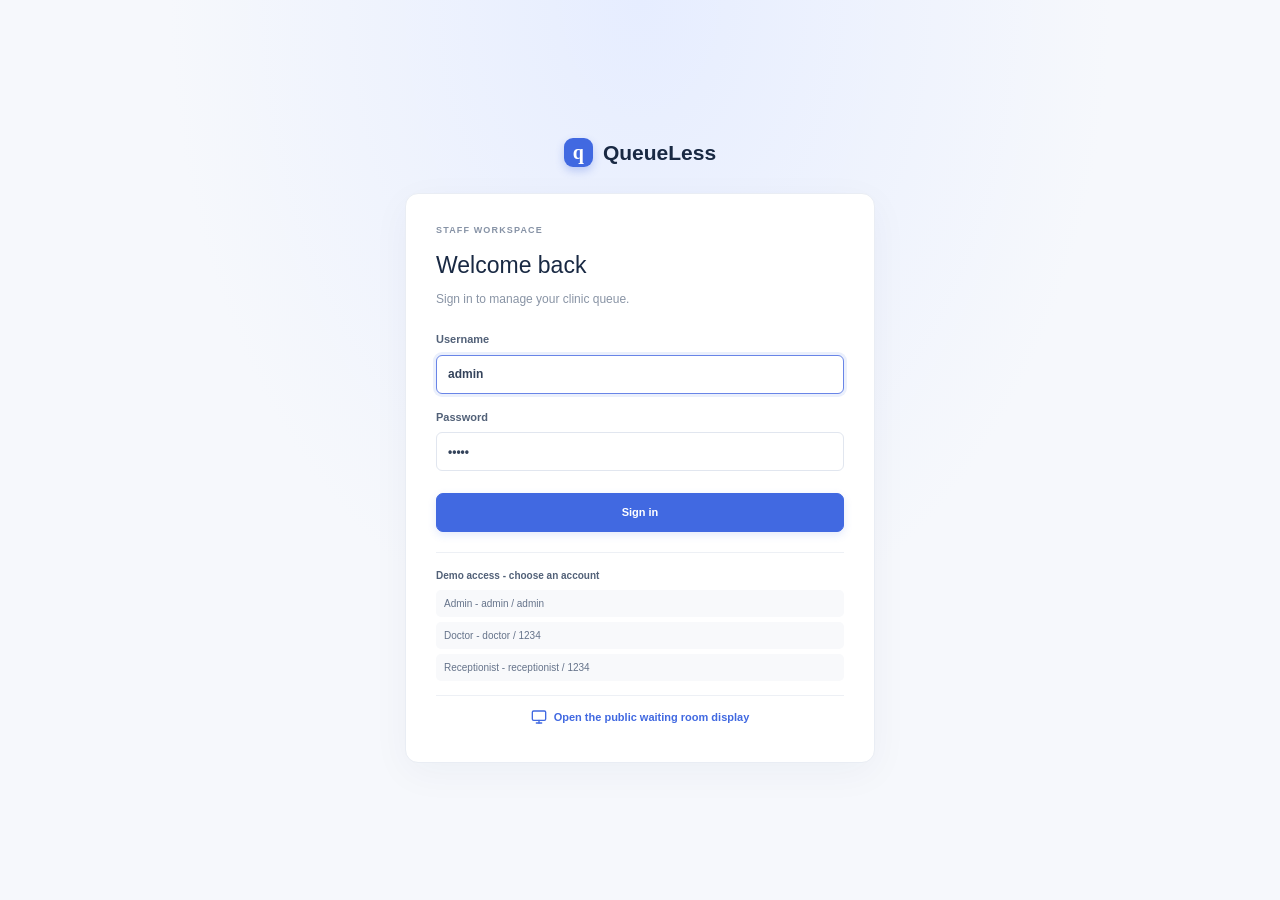
Scenario: QueueLess views › fills and signs in the receptionist demo account
Click the button "Receptionist - receptionist / 1234": x=517, y=667 [436, 654, 844, 681]
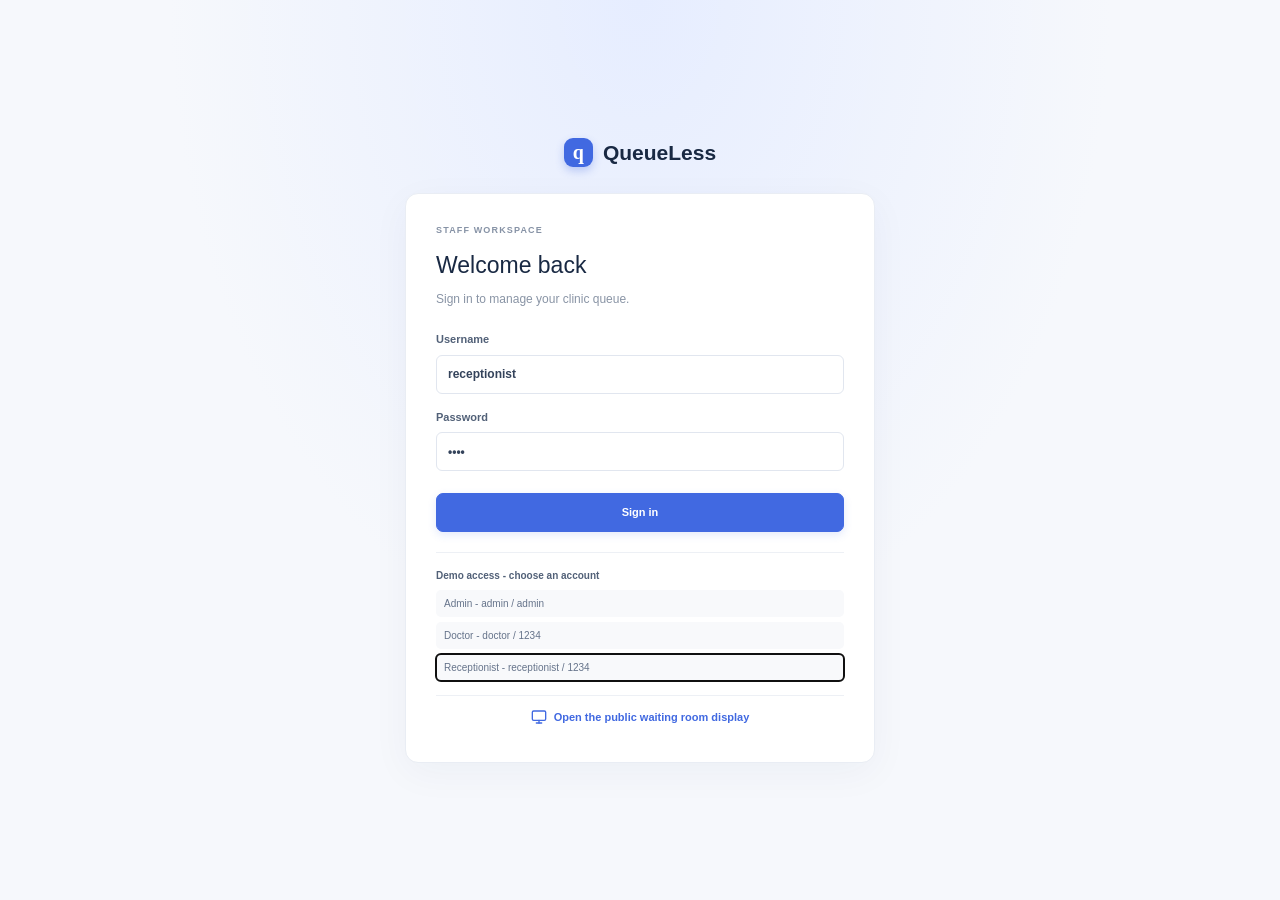
Click the button "Sign in": x=640, y=513 [436, 493, 844, 532]
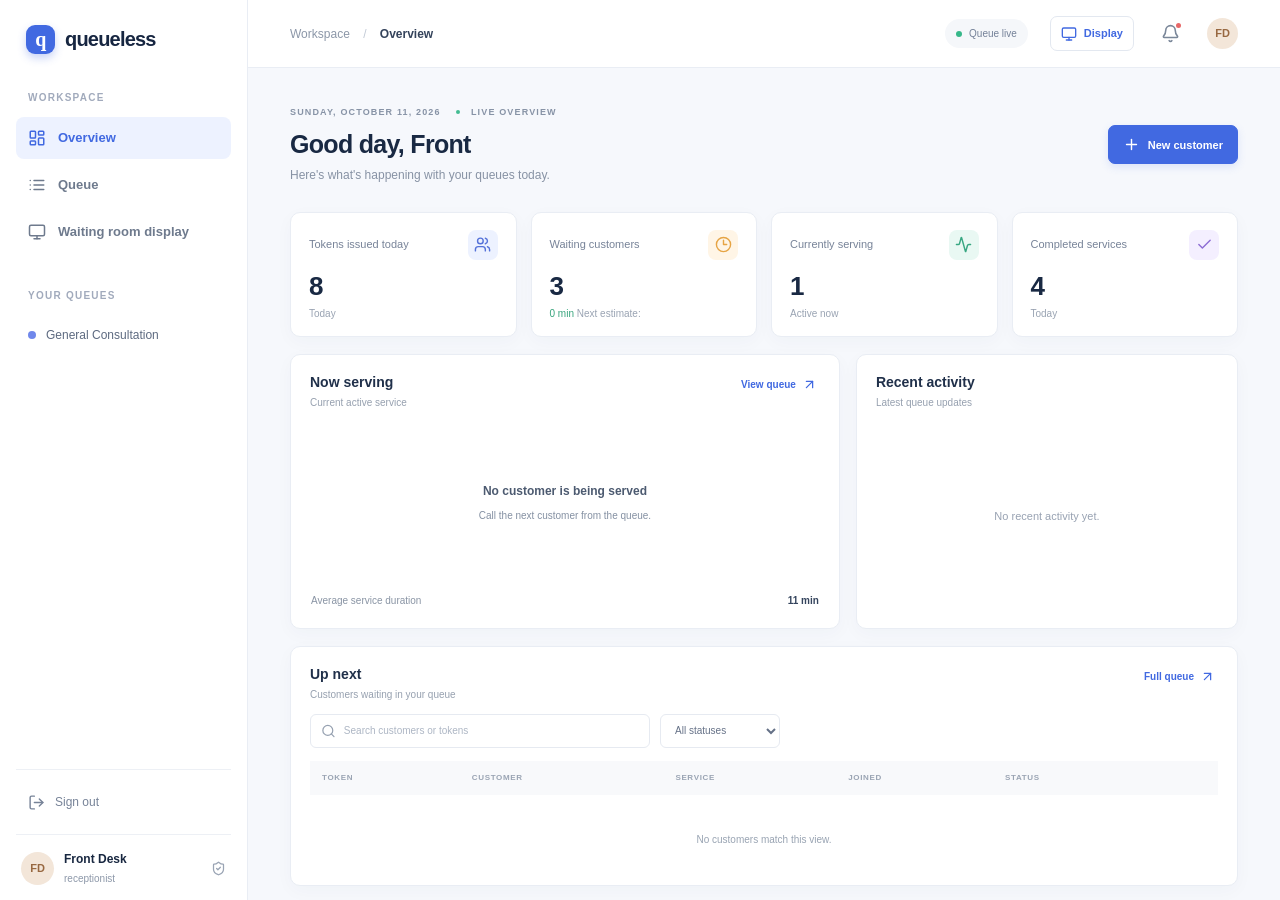
Check: the heading "Good day, Front" is shown, box [290, 130, 471, 158]
